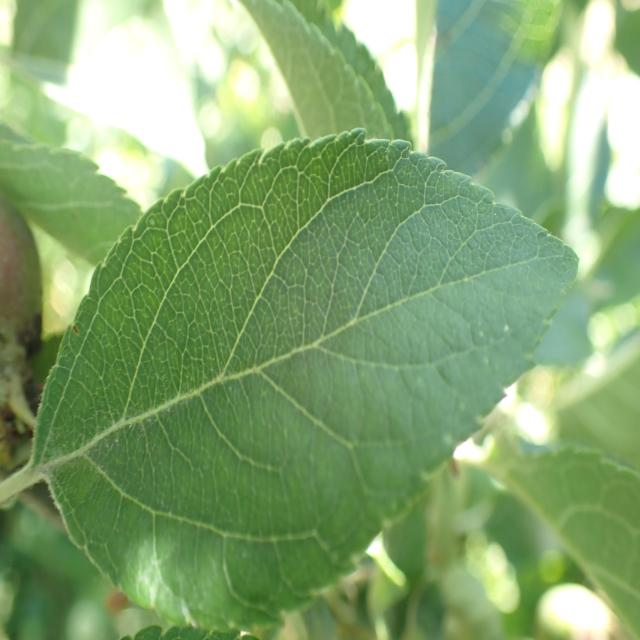healthy: (34, 129, 580, 632), (234, 0, 416, 152), (505, 444, 640, 638)
